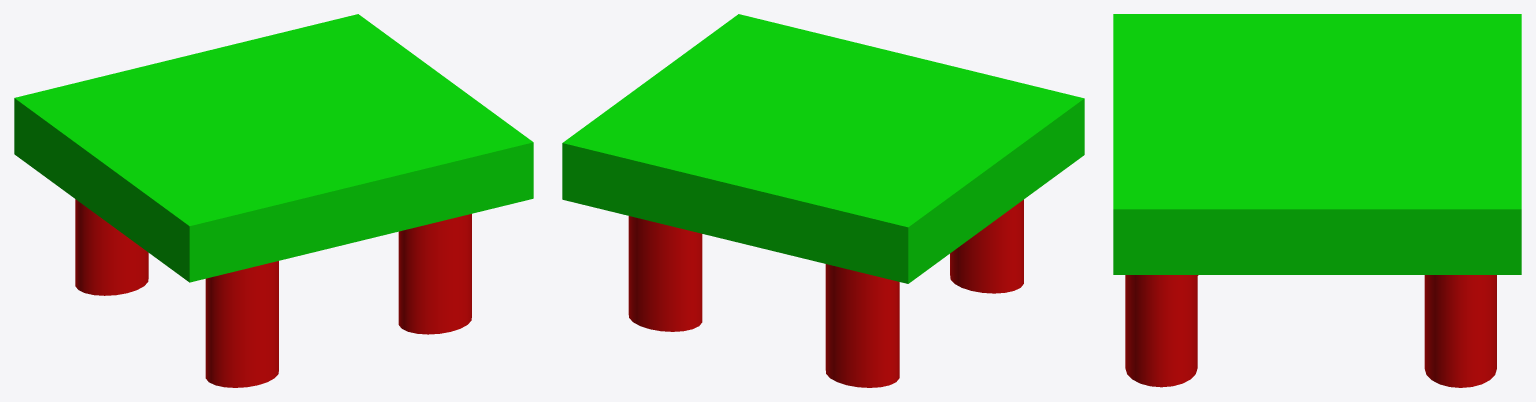
Rendered from table.fbx.
3 views of the same model, side by side, from view 1: azimuth 30°, elevation 25°; view 2: azimuth 150°, elevation 25°; view 3: azimuth 270°, elevation 25° (orthographic). The views are drawn at different scales.
Visible parts, largest first — view 1: pasted__pasted__pCylinder1; view 2: pasted__pasted__pCylinder1; view 3: pasted__pasted__pCylinder1.
Boxes of the visible parts, <box> form: pasted__pasted__pCylinder1: <box>14,14,533,387</box>; pasted__pasted__pCylinder1: <box>562,14,1084,387</box>; pasted__pasted__pCylinder1: <box>1113,14,1521,387</box>.
Size of the model in its own units: 3.64 by 1.84 by 3.21.
